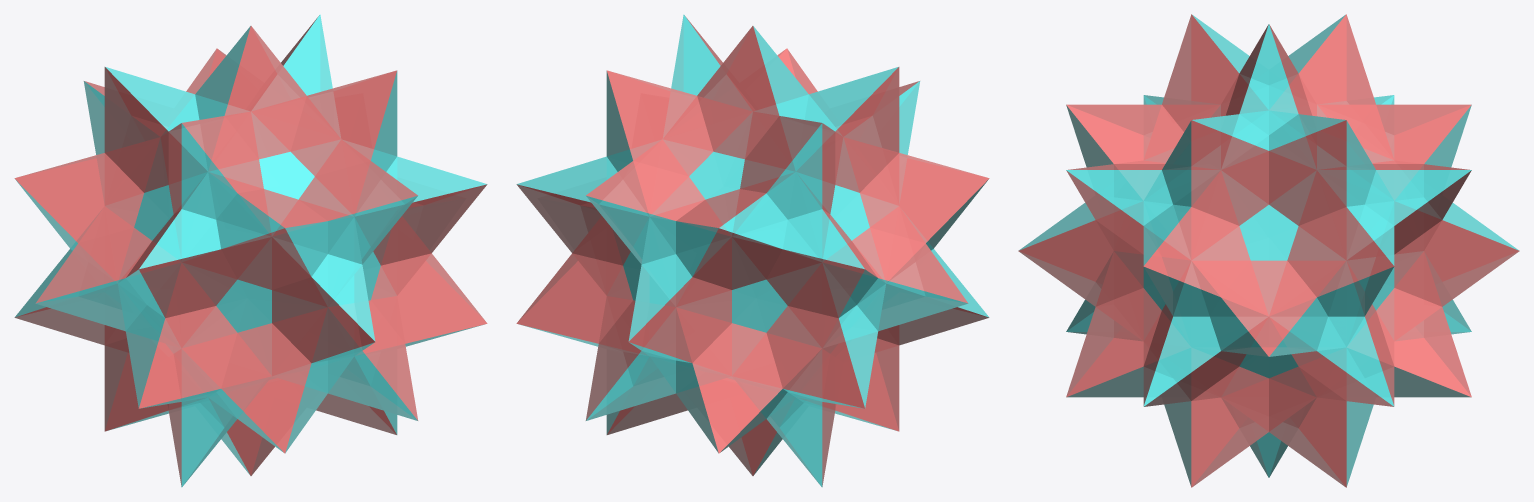
Rendered from GreatIcosidodecahedron.obj.
The picture shows the model from 3 angles, left to right: view 1: azimuth 30°, elevation 25°; view 2: azimuth 150°, elevation 25°; view 3: azimuth 270°, elevation 25°; orthographic projection.
Size of the model in its own units: 1.24 by 1.24 by 1.24.
